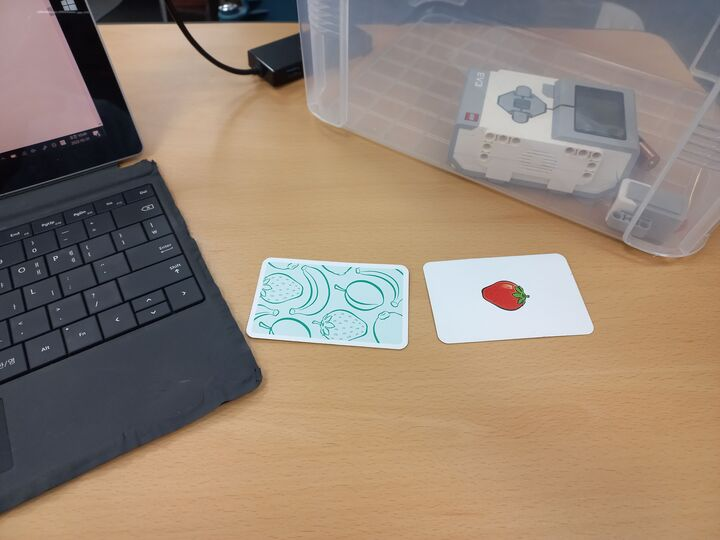strawberry1: (421, 249, 597, 346)
